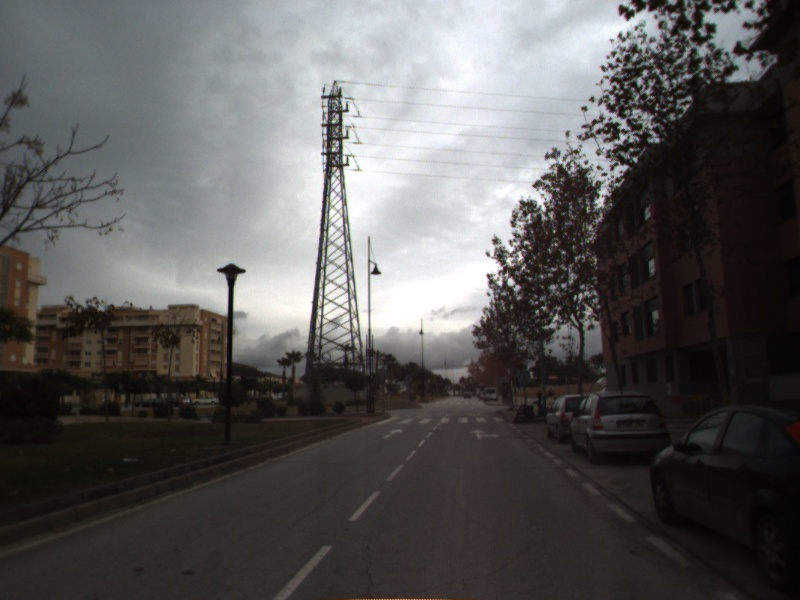STRAIGHT: (381, 426, 405, 440)
STRAIGHT_RIGHT: (467, 426, 504, 442)
